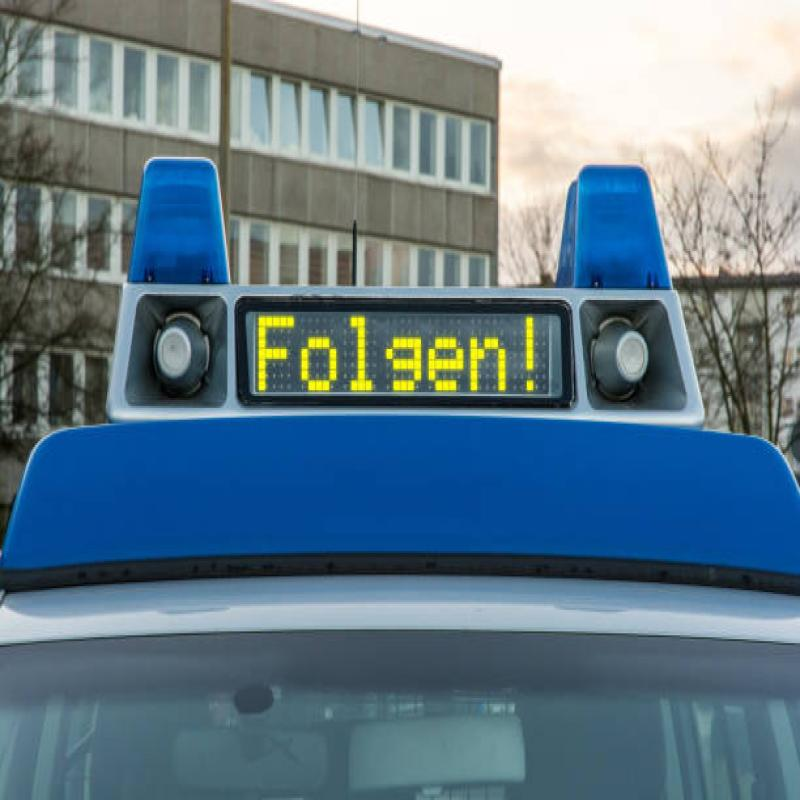AmbulanceSiren: (119, 125, 248, 339), (548, 130, 684, 330)
